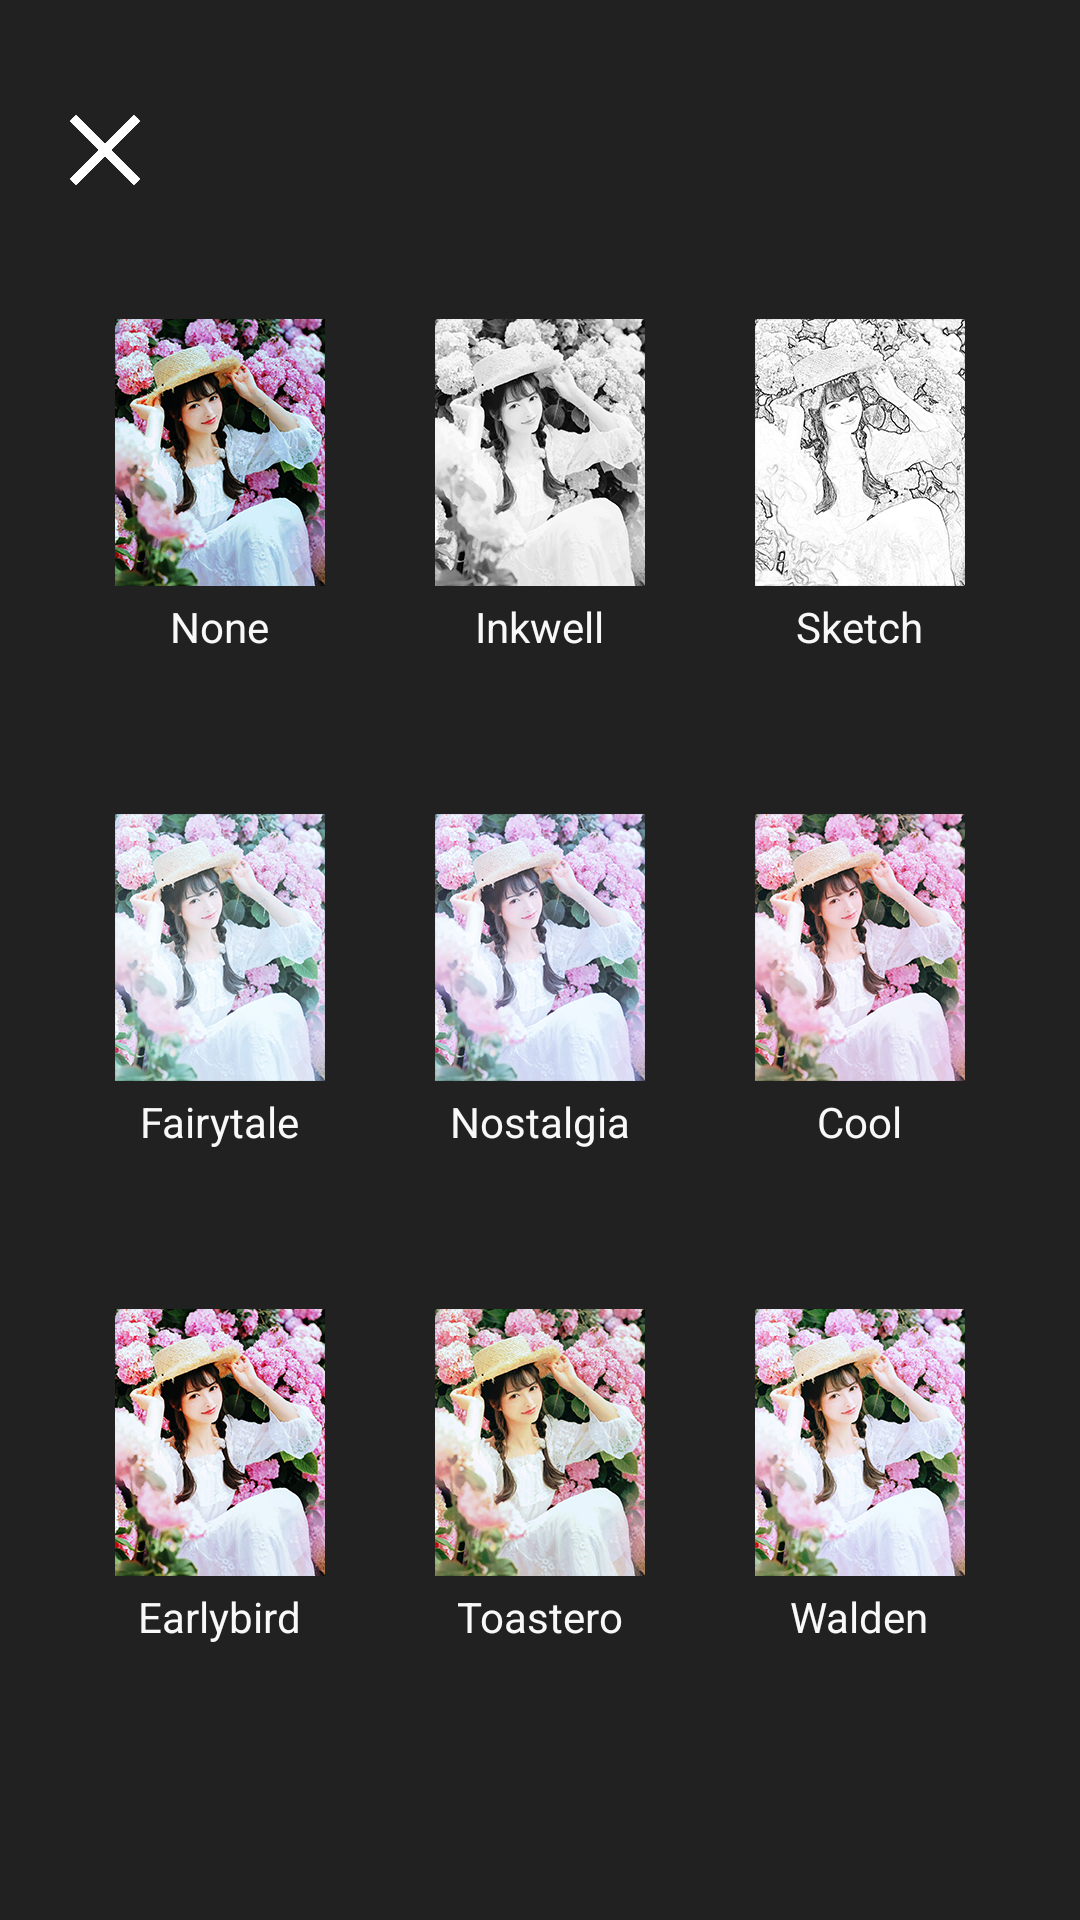

Named icons in this screenshot (1080*1920) and their centers, [x,y]:
close: [105,150]
